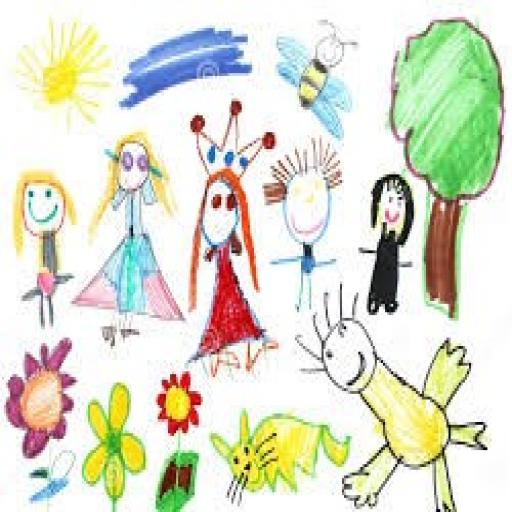person: (294, 275, 493, 509), (172, 99, 278, 383), (84, 122, 182, 350), (262, 134, 356, 330), (8, 149, 81, 337), (356, 145, 428, 322)
